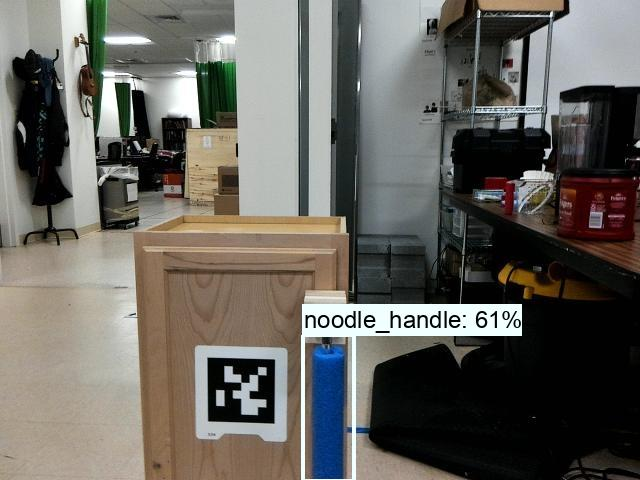noodle_handle: (303, 324, 357, 480)
